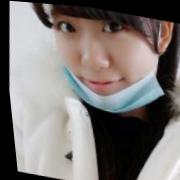WRONG: (42, 4, 163, 119)
